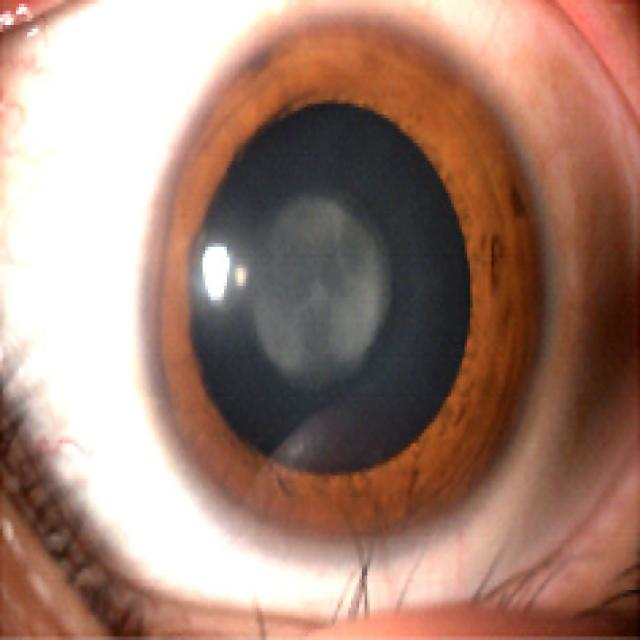Cataract: (135, 18, 550, 566)
